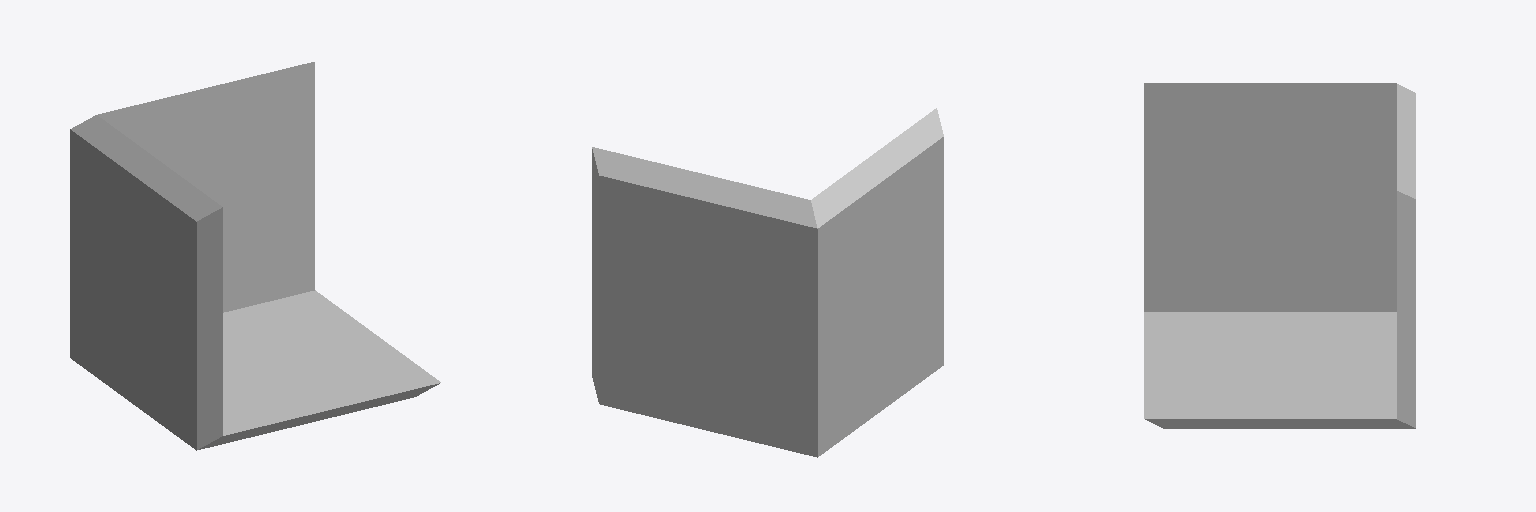
Rendered from mirror.obj.
The picture shows the model from 3 angles: view 1: azimuth 30°, elevation 25°; view 2: azimuth 150°, elevation 25°; view 3: azimuth 270°, elevation 25°; orthographic projection.
Parts seen in each view (by area): view 1: Cube; view 2: Cube; view 3: Cube.
Part boxes in pixels (bbox=[...]): Cube: bbox=[70, 62, 440, 450]; Cube: bbox=[592, 108, 943, 457]; Cube: bbox=[1144, 83, 1415, 428].
Bounding box in the file's own units: 2.15 × 2.15 × 2.15.